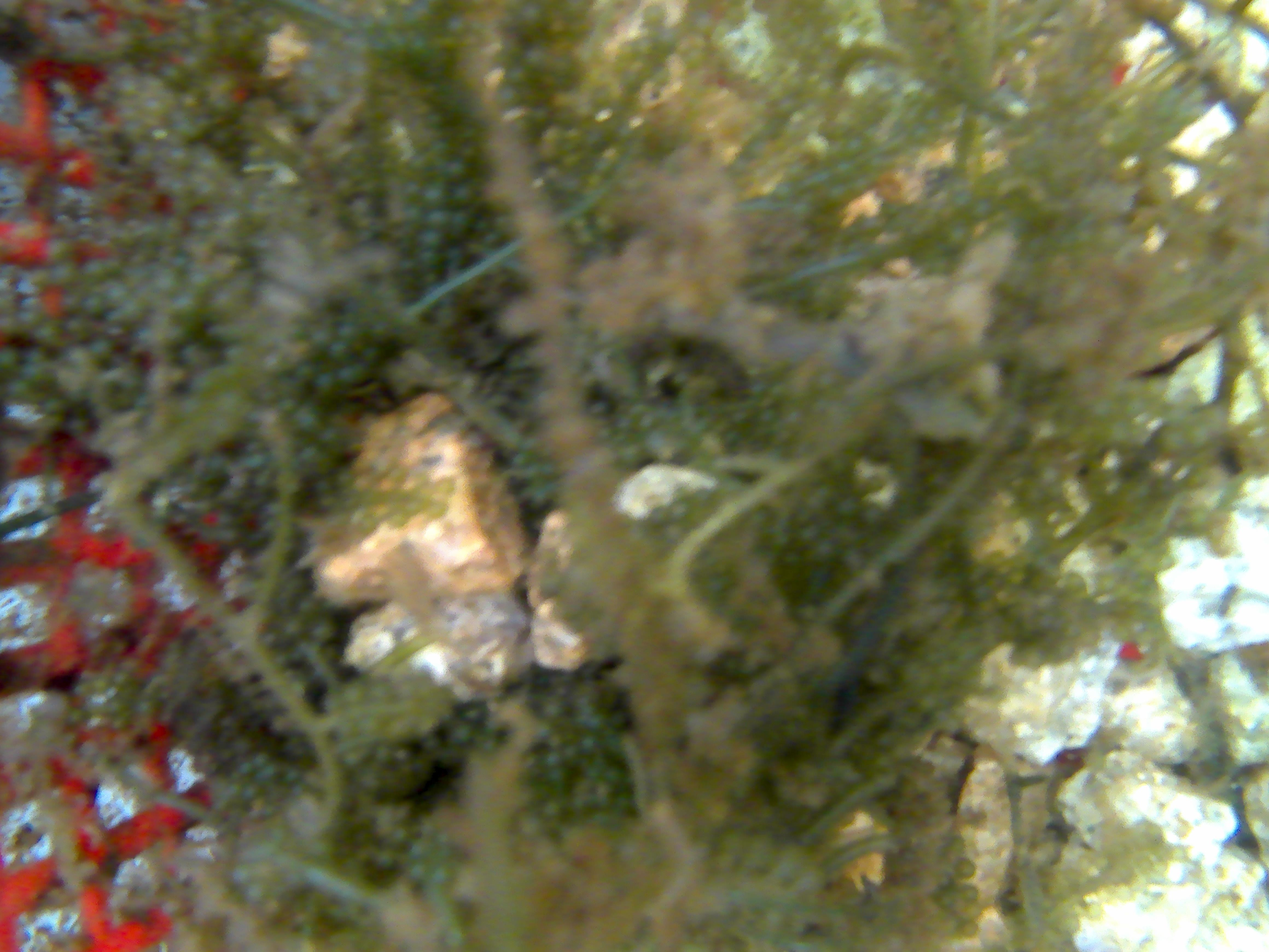Darkening: (232, 735, 252, 755), (67, 417, 87, 436), (375, 396, 394, 414), (110, 638, 128, 656), (550, 18, 567, 35)
Harvestable: (777, 845, 804, 876), (171, 291, 199, 318), (154, 267, 182, 294), (746, 839, 771, 868), (293, 406, 320, 432), (1162, 428, 1189, 454), (642, 429, 668, 455), (718, 835, 745, 860), (45, 237, 73, 261), (617, 442, 643, 467), (797, 870, 824, 894), (103, 279, 128, 303), (409, 838, 434, 862), (1184, 422, 1208, 447), (813, 538, 837, 563), (496, 84, 520, 108), (312, 618, 336, 642), (867, 664, 892, 687), (445, 924, 468, 949), (826, 182, 848, 208), (424, 185, 447, 209), (81, 256, 105, 279), (190, 210, 213, 233), (595, 212, 618, 235), (261, 352, 284, 375), (297, 60, 320, 83), (337, 364, 362, 385), (314, 371, 336, 394), (836, 497, 859, 519), (310, 325, 333, 347), (834, 158, 857, 180), (408, 34, 430, 57), (282, 616, 305, 638), (189, 269, 213, 290), (418, 231, 445, 249), (452, 183, 474, 205), (7, 378, 30, 399), (425, 209, 449, 229), (1039, 464, 1060, 486), (452, 722, 473, 744), (446, 15, 468, 36), (873, 752, 895, 773), (546, 765, 568, 786), (375, 848, 397, 869), (257, 762, 279, 783), (876, 730, 898, 751), (954, 857, 976, 878), (949, 224, 969, 247), (845, 137, 869, 156), (429, 865, 450, 886), (300, 445, 321, 466), (402, 203, 423, 224), (232, 863, 253, 884), (418, 248, 440, 268), (799, 523, 821, 543), (329, 340, 350, 360), (53, 262, 74, 282), (408, 861, 429, 881), (450, 210, 470, 231), (319, 425, 340, 445), (245, 882, 266, 902), (671, 500, 692, 520), (83, 294, 104, 314), (0, 347, 18, 370), (369, 685, 394, 701), (167, 69, 187, 89), (542, 799, 562, 819), (533, 719, 553, 739), (637, 412, 657, 432), (580, 733, 599, 754), (1008, 568, 1028, 587), (615, 412, 634, 432), (1035, 590, 1056, 608), (170, 148, 192, 165), (390, 825, 409, 844), (650, 507, 669, 526), (787, 76, 807, 94), (295, 362, 315, 380), (374, 745, 392, 764), (398, 699, 418, 716), (562, 743, 579, 763), (775, 184, 793, 202), (688, 49, 707, 66), (509, 65, 528, 82), (759, 407, 778, 424), (136, 699, 155, 716), (972, 202, 992, 218), (447, 161, 465, 178), (913, 126, 931, 143), (174, 178, 191, 196), (545, 750, 562, 768), (241, 783, 259, 800), (314, 478, 332, 495), (92, 339, 109, 356), (278, 397, 296, 413), (953, 195, 972, 210), (648, 8, 665, 24), (253, 752, 270, 768), (438, 477, 453, 495), (963, 884, 978, 902), (548, 732, 564, 748), (68, 708, 84, 724), (961, 923, 978, 938), (359, 516, 376, 531), (345, 685, 360, 700), (637, 38, 652, 53), (928, 108, 942, 124), (404, 676, 419, 690), (239, 761, 254, 775), (968, 904, 981, 920), (156, 179, 170, 193), (348, 705, 363, 718), (390, 726, 402, 742), (429, 503, 445, 514), (374, 708, 390, 719), (391, 512, 406, 523)
